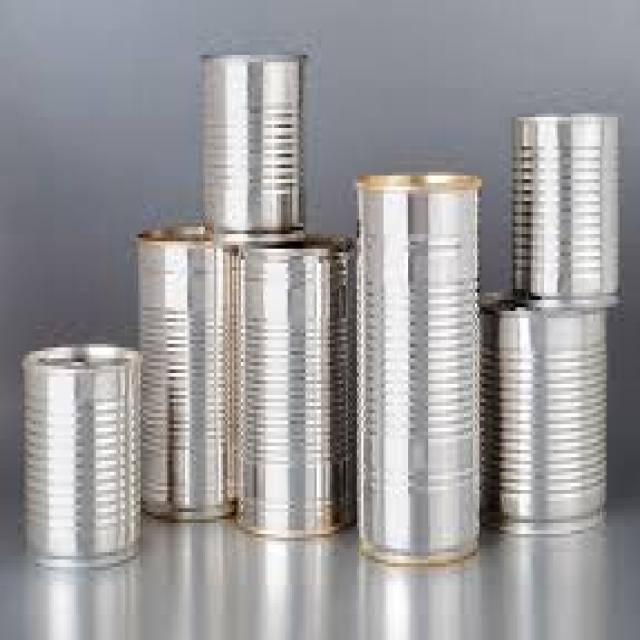recyclable: (352, 168, 482, 567), (232, 230, 352, 542), (477, 288, 607, 542), (133, 226, 234, 526), (20, 344, 136, 570), (508, 110, 618, 308), (196, 48, 304, 238)
